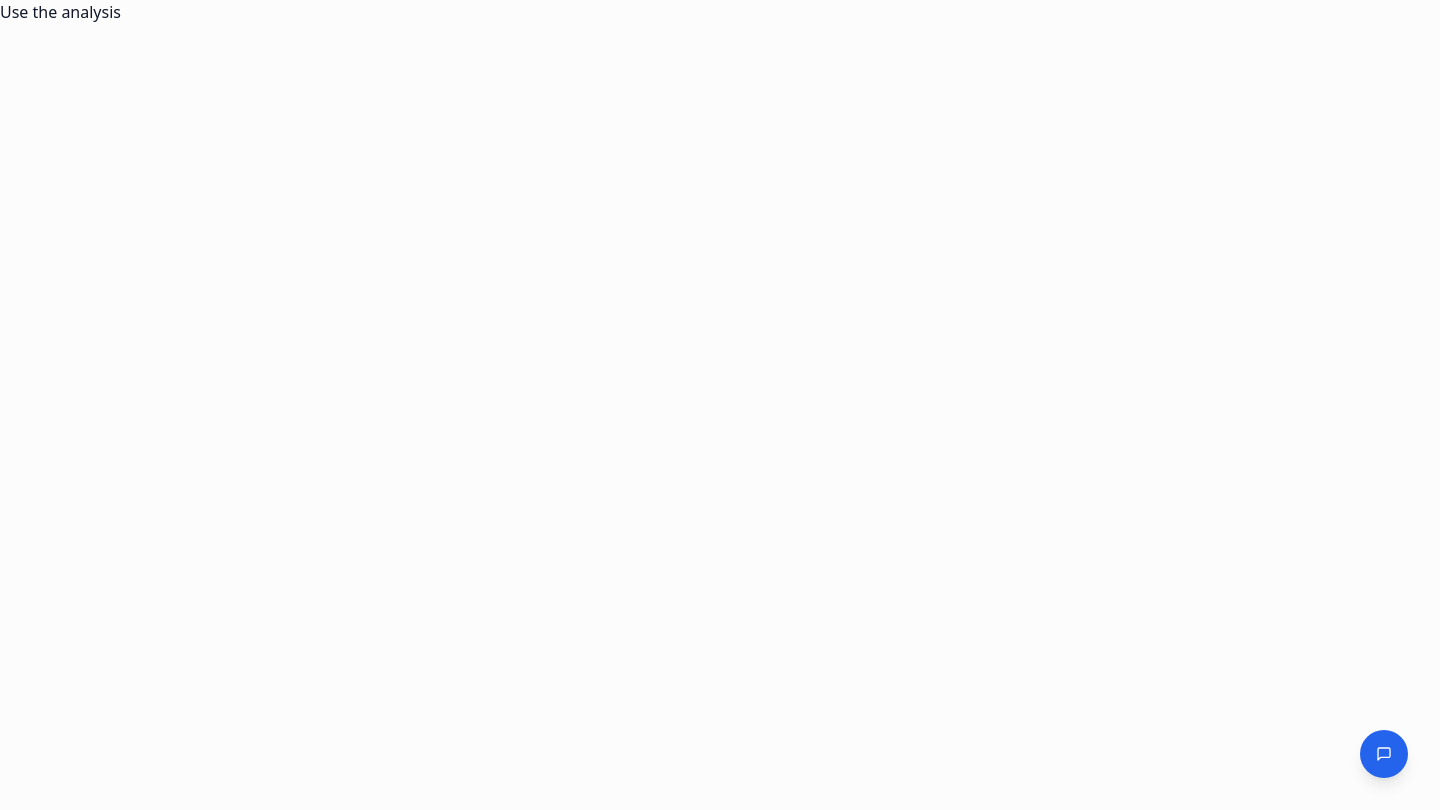
Scenario: AnalysisChatBubble › isolates histories and question drafts when navigating to another analysis
This screenshot has width=1440, height=810.
Later steps or results of the test are not shown.
Click the button named "Chat about this analysis" at x=1384, y=754, box top-left (1360, 730), bottom-right (1408, 778)
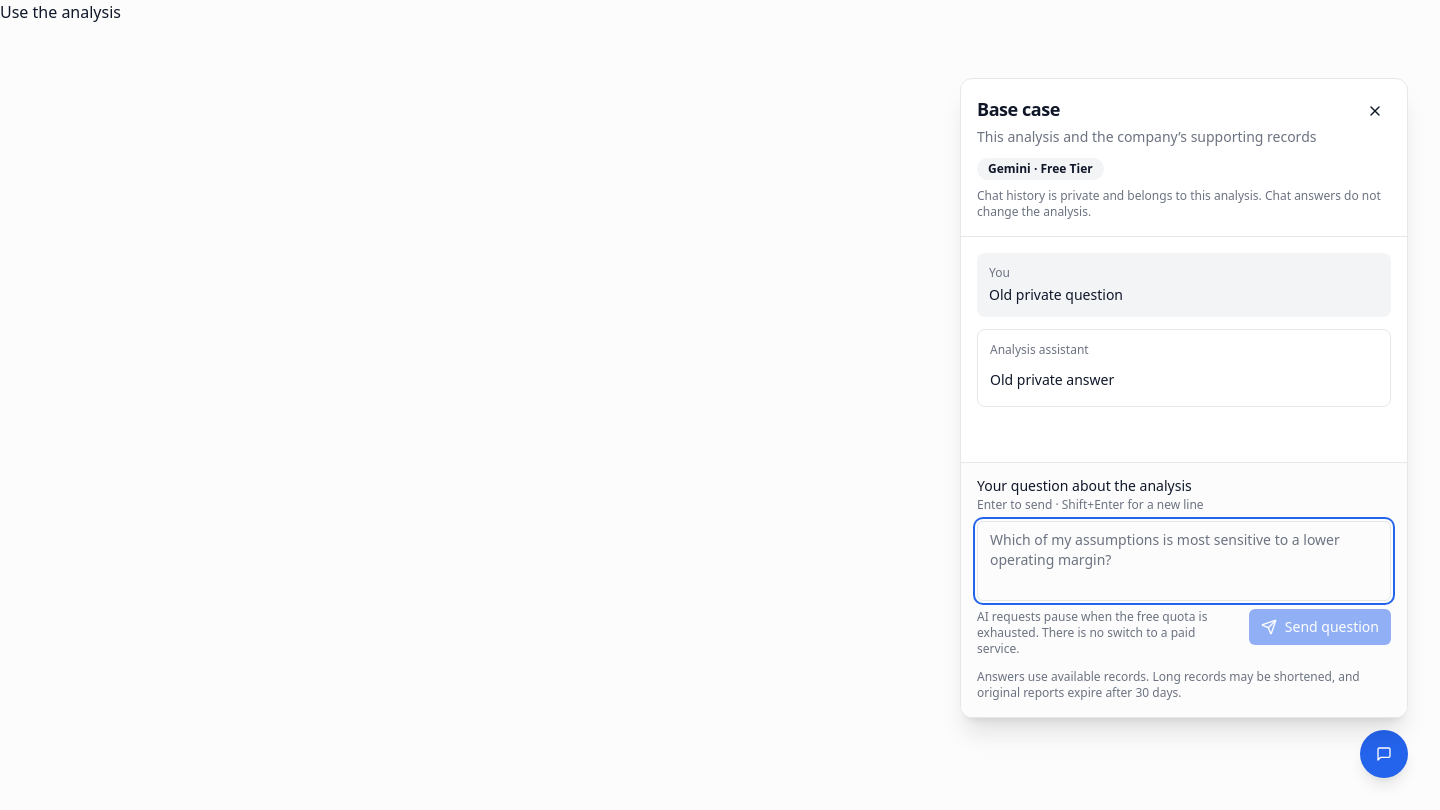
expect the text box labelled "Your question about the analysis" is enabled: met, box top-left (977, 521), bottom-right (1391, 601)
expect the text "Old private answer" is shown: met, box top-left (990, 370), bottom-right (1114, 389)
